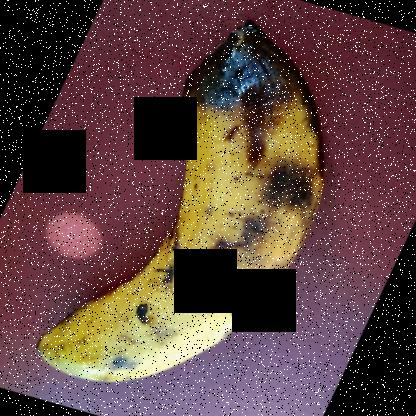overripe: (13, 144, 343, 400)
rotten: (141, 13, 370, 181)
